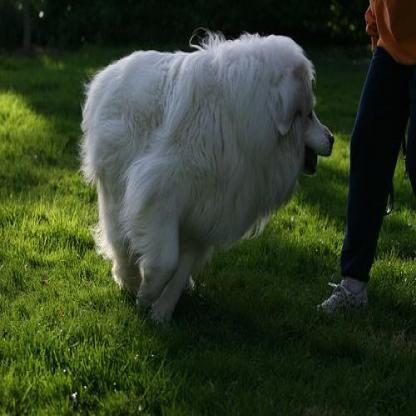Great_Pyrenees: (79, 31, 335, 320)
